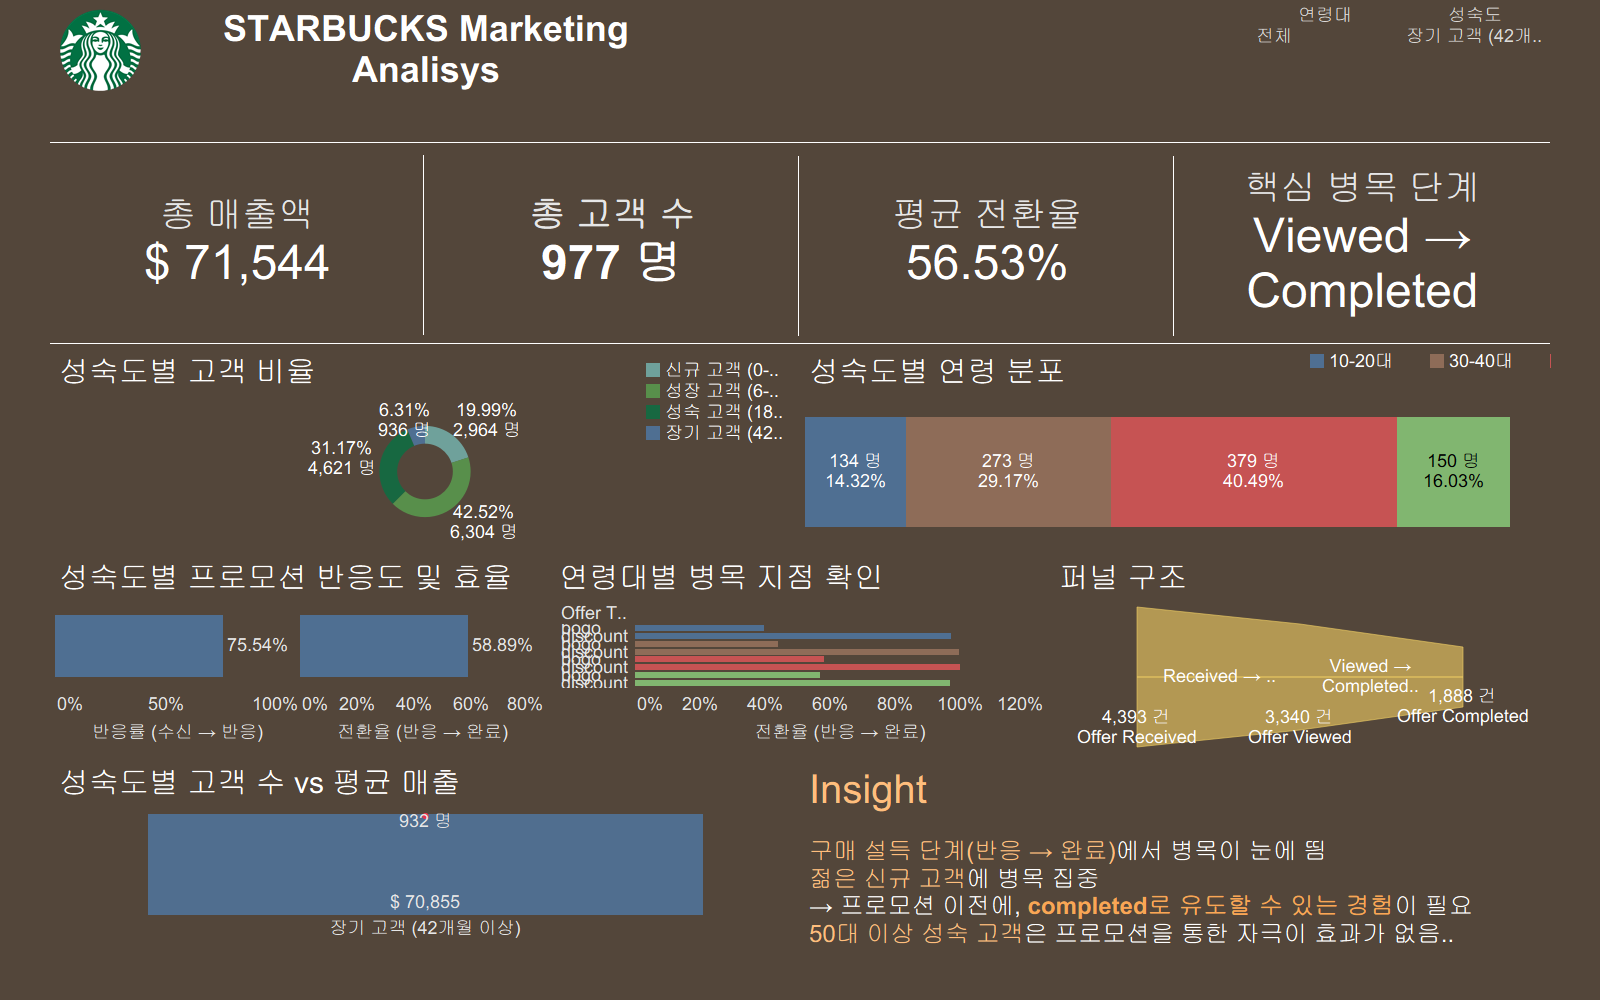

Layout of this report page (visuals, bound fields, positions):
{"tool":"tableau","page":{"name":"고객 데이터 대시보드","canvas":[1600,1000],"ordinal":0},"visuals":[{"type":"image","param":"Image/Starbucks-3.png","box":[50,0,100,100]},{"type":"text","box":[150,0,552,100]},{"type":"blank","box":[702,0,548,100]},{"type":"filter","title":"성숙도별 고객 비율","param":"[federated.1vbcdsd1upd2p81fpr0r51qee8eg].[none:Calculation_2143800431591424:nk]","box":[1250,0,150,100]},{"type":"filter","title":"성숙도별 연령 분포","param":"[federated.1vbcdsd1upd2p81fpr0r51qee8eg].[none:Calculation_2555567308808199:nk]","box":[1400,0,150,100]},{"type":"blank","box":[50,100,1500,42]},{"type":"blank","box":[50,142,1500,1]},{"type":"worksheet","title":"총 매출액","mark":"Automatic","box":[50,143,375,200]},{"type":"worksheet","title":"고객 수","mark":"Automatic","box":[425,143,375,200]},{"type":"worksheet","title":"평균 전환율","mark":"Automatic","box":[800,143,375,200]},{"type":"text","box":[1175,143,375,200]},{"type":"blank","box":[423,155,1,180]},{"type":"blank","box":[798,156,1,180]},{"type":"blank","box":[1173,156,1,180]},{"type":"blank","box":[50,343,1500,1]},{"type":"worksheet","title":"성숙도별 고객 비율","mark":"Pie","cols":["Calculation_1412901886873603","Calculation_1412901886873603"],"box":[50,344,750,206]},{"type":"worksheet","title":"성숙도별 연령 분포","mark":"Automatic","rows":["Calculation_2555567308808199"],"cols":["customer_id"],"box":[800,344,750,206]},{"type":"legend","title":"성숙도별 연령 분포","param":"[federated.1vbcdsd1upd2p81fpr0r51qee8eg].[none:Calculation_2143800431591424:nk]","box":[1307,351,244,41]},{"type":"legend","title":"성숙도별 고객 비율","param":"[federated.1vbcdsd1upd2p81fpr0r51qee8eg].[none:Calculation_2555567308808199:nk]","box":[643,360,145,84]},{"type":"worksheet","title":"성숙도별 프로모션 반응도 및 효율","mark":"Automatic","rows":["Calculation_2555567308808199"],"cols":["Calculation_1925272233881601","Calculation_2873600918933521"],"box":[50,550,500,205]},{"type":"worksheet","title":"연령대별 병목 지점 확인","mark":"Automatic","rows":["Calculation_2143800431591424","offer_type"],"cols":["Calculation_2873600918933521"],"box":[550,550,500,205]},{"type":"worksheet","title":"퍼널 구조","mark":"Area","rows":["Calculation_1412901890539524","customer_id"],"cols":["Calculation_1412901893382151"],"box":[1050,550,500,205]},{"type":"text","box":[1304,647,133,59]},{"type":"text","box":[1157,654,125,44]},{"type":"worksheet","title":"성숙도별 고객 수 vs 평균 매출","mark":"Bar","rows":["amount","customer_id"],"cols":["Calculation_2555567308808199"],"box":[50,755,750,205]},{"type":"text","box":[800,755,750,205]}]}

Visuals, with their boxes in screenshot pixels (x1, y1, x2, y2), scaled from the page's 1600x1000 canvas onto the 1600x1000 screenshot:
image: select_region(50, 0, 150, 100)
text: select_region(150, 0, 702, 100)
blank: select_region(702, 0, 1250, 100)
"성숙도별 고객 비율" filter: select_region(1250, 0, 1400, 100)
"성숙도별 연령 분포" filter: select_region(1400, 0, 1550, 100)
blank: select_region(50, 100, 1550, 142)
blank: select_region(50, 142, 1550, 143)
"총 매출액" worksheet: select_region(50, 143, 425, 343)
"고객 수" worksheet: select_region(425, 143, 800, 343)
"평균 전환율" worksheet: select_region(800, 143, 1175, 343)
text: select_region(1175, 143, 1550, 343)
blank: select_region(423, 155, 424, 335)
blank: select_region(798, 156, 799, 336)
blank: select_region(1173, 156, 1174, 336)
blank: select_region(50, 343, 1550, 344)
"성숙도별 고객 비율" worksheet (Pie marks): select_region(50, 344, 800, 550)
"성숙도별 연령 분포" worksheet: select_region(800, 344, 1550, 550)
"성숙도별 연령 분포" legend: select_region(1307, 351, 1551, 392)
"성숙도별 고객 비율" legend: select_region(643, 360, 788, 444)
"성숙도별 프로모션 반응도 및 효율" worksheet: select_region(50, 550, 550, 755)
"연령대별 병목 지점 확인" worksheet: select_region(550, 550, 1050, 755)
"퍼널 구조" worksheet (Area marks): select_region(1050, 550, 1550, 755)
text: select_region(1304, 647, 1437, 706)
text: select_region(1157, 654, 1282, 698)
"성숙도별 고객 수 vs 평균 매출" worksheet (Bar marks): select_region(50, 755, 800, 960)
text: select_region(800, 755, 1550, 960)
